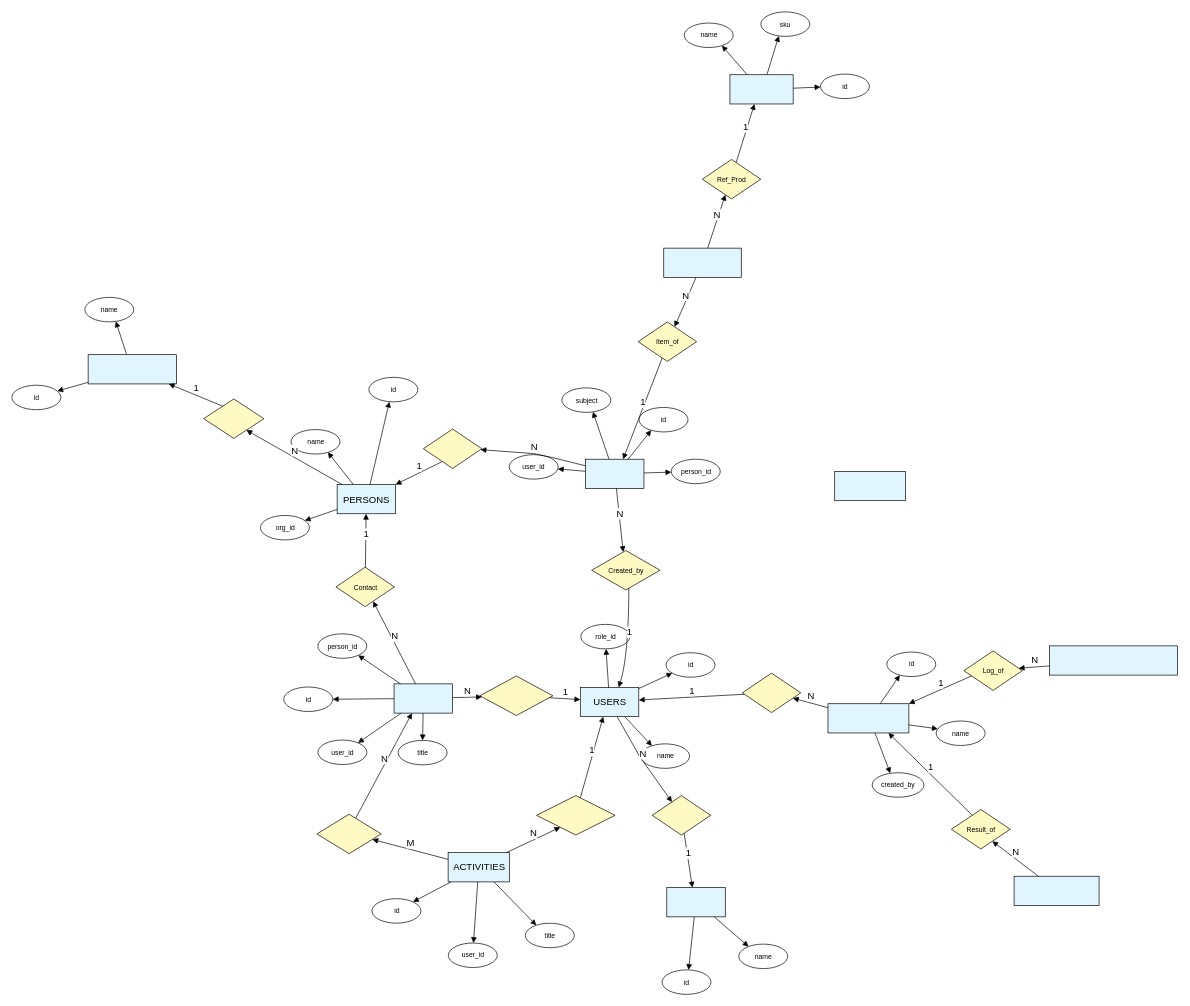
Some shapes in this 1190 by 1006 pixel diagram are drawn without their labels. Here are the shapes that lost their labels. From the top down, the box of each, then its label:
(729, 74, 793, 104): PRODUCTS
(663, 247, 741, 277): QUOTE_ITEMS
(87, 354, 177, 384): ORGANIZATIONS
(203, 398, 264, 438): Works_at
(423, 428, 482, 468): For
(585, 459, 644, 488): QUOTES
(834, 471, 905, 501): SIGNATURES
(1049, 645, 1177, 675): APRIORI_TRANSACTIONS
(393, 683, 453, 713): LEADS
(479, 675, 553, 715): Managed_by
(742, 672, 801, 713): Run_by
(827, 703, 909, 733): APRIORI_RUNS
(316, 814, 381, 854): Related_to
(536, 795, 615, 835): Performed_by
(652, 795, 711, 835): Has
(666, 887, 725, 917): ROLES
(1013, 876, 1099, 905): APRIORI_RULES
